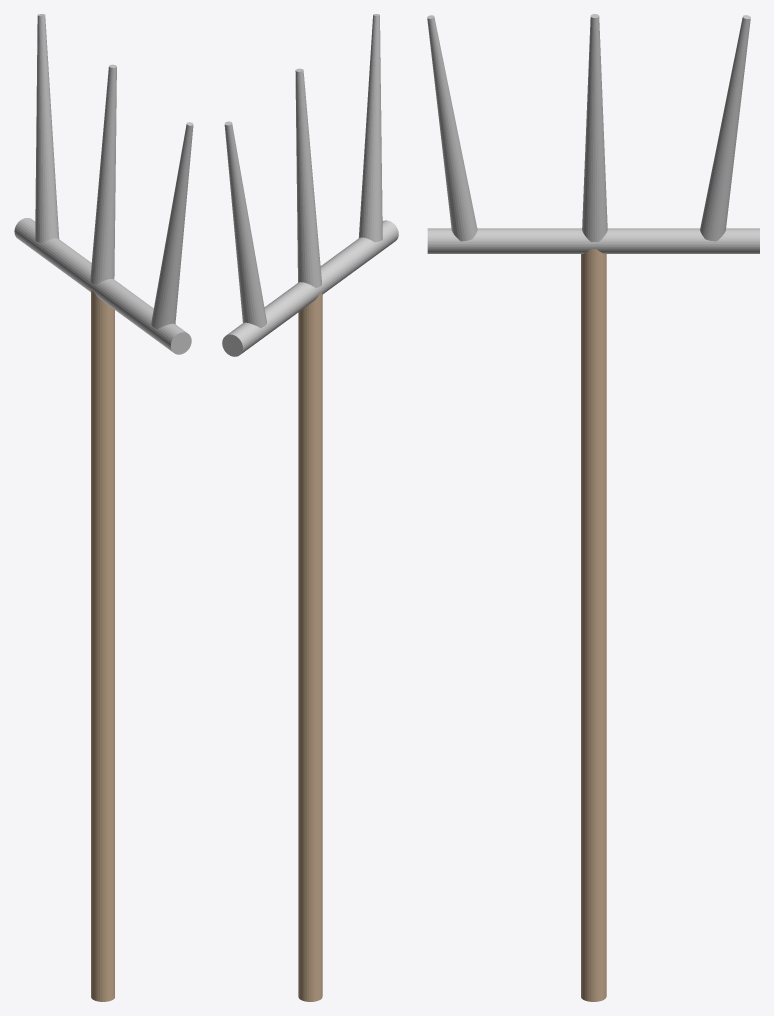
The model's file is enemy-weapon-farmer.fbx.
The picture shows the model from 3 angles, left to right: view 1: azimuth 30°, elevation 25°; view 2: azimuth 150°, elevation 25°; view 3: azimuth 270°, elevation 25°; orthographic projection. The views are drawn at different scales.
Parts seen in each view (by area): view 1: Cylinder.001; view 2: Cylinder.001; view 3: Cylinder.001.
Boxes of the visible parts, x1,y1,x2,y2 form: Cylinder.001: (14,14,193,1001); Cylinder.001: (222,14,398,1001); Cylinder.001: (427,14,759,1001).
Bounding box in the file's own units: 3.29 × 119 × 36.28.
